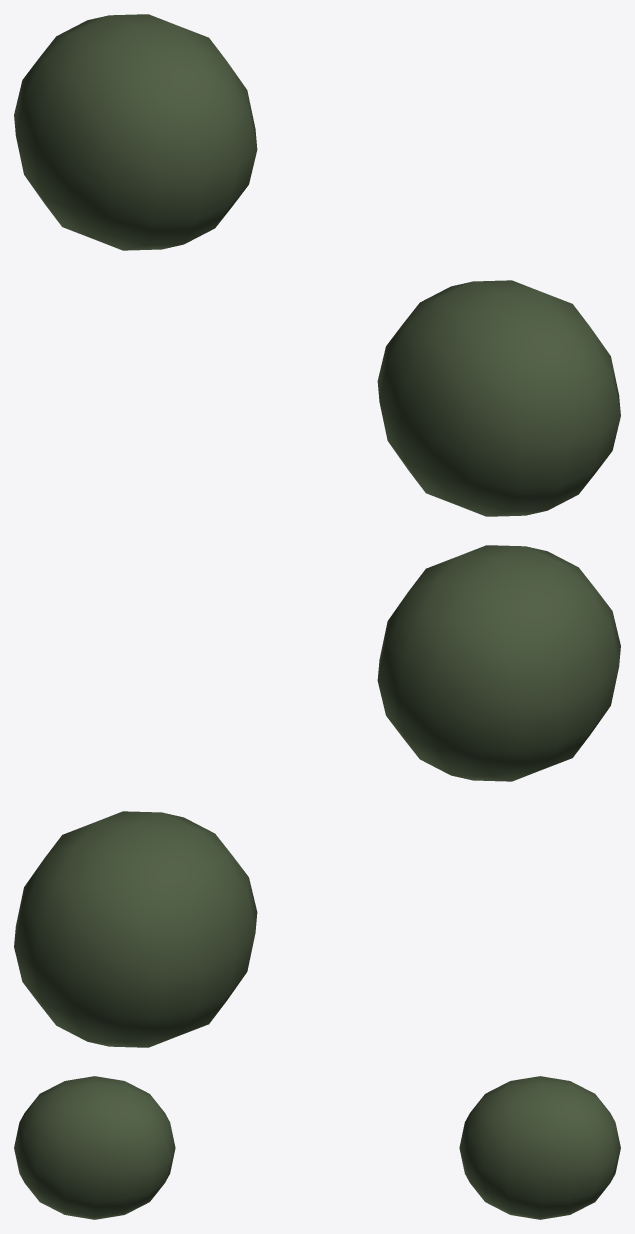
Rendered from microscopic-bacteria-paired-bacterium_v2.glb.
3 renders of one model, top to bottom at view 1: azimuth 30°, elevation 25°; view 2: azimuth 150°, elevation 25°; view 3: azimuth 270°, elevation 25°, orthographic. The views are drawn at different scales.
Parts seen in each view (by area): view 1: Paired Bacterium_v2; view 2: Paired Bacterium_v2; view 3: Paired Bacterium_v2.
Boxes of the visible parts, x1,y1,x2,y2 form: Paired Bacterium_v2: [14, 14, 620, 516]; Paired Bacterium_v2: [14, 545, 620, 1047]; Paired Bacterium_v2: [14, 1076, 620, 1219].
Size of the model in its own units: 0.0467 by 0.0467 by 0.2.
